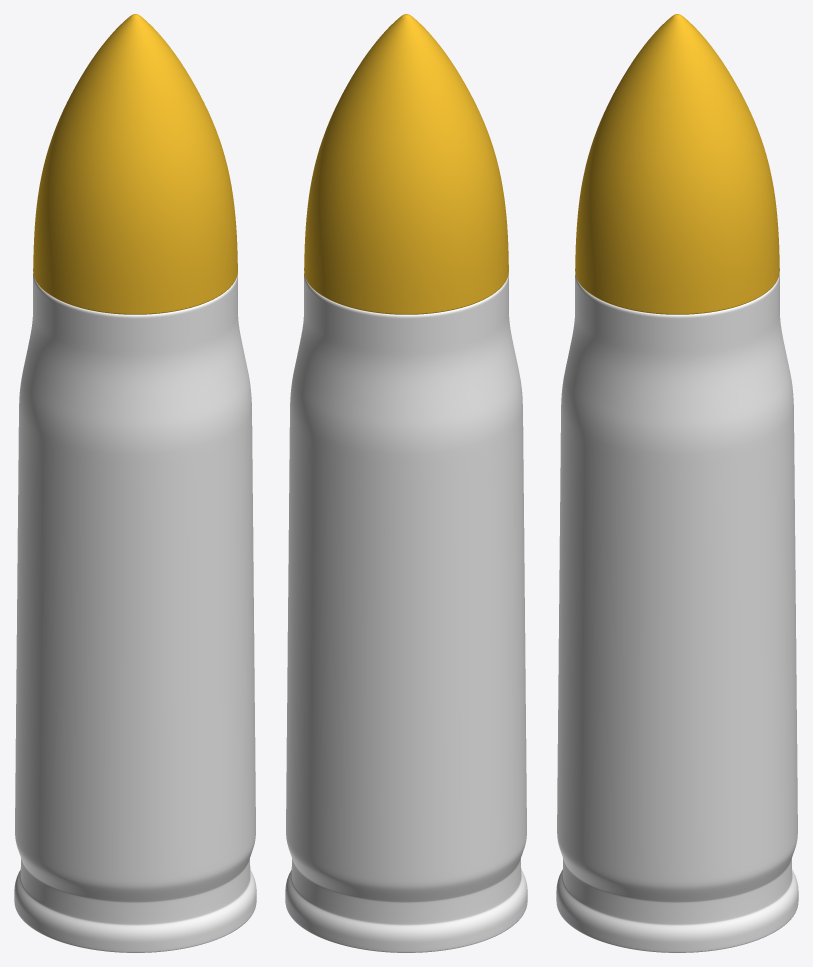
Rendered from 10252-onesize.glb.
The picture shows the model from 3 angles, left to right: view 1: azimuth 30°, elevation 25°; view 2: azimuth 150°, elevation 25°; view 3: azimuth 270°, elevation 25°; orthographic projection.
Visible parts, largest first — view 1: 1683; view 2: 1683; view 3: 1683.
Part boxes in pixels (left/top/right/bottom): 1683: left=14, top=14, right=256, bottom=952; 1683: left=285, top=14, right=527, bottom=952; 1683: left=556, top=14, right=798, bottom=952.
Size of the model in its own units: 0.9923 by 4.01 by 0.9923.
